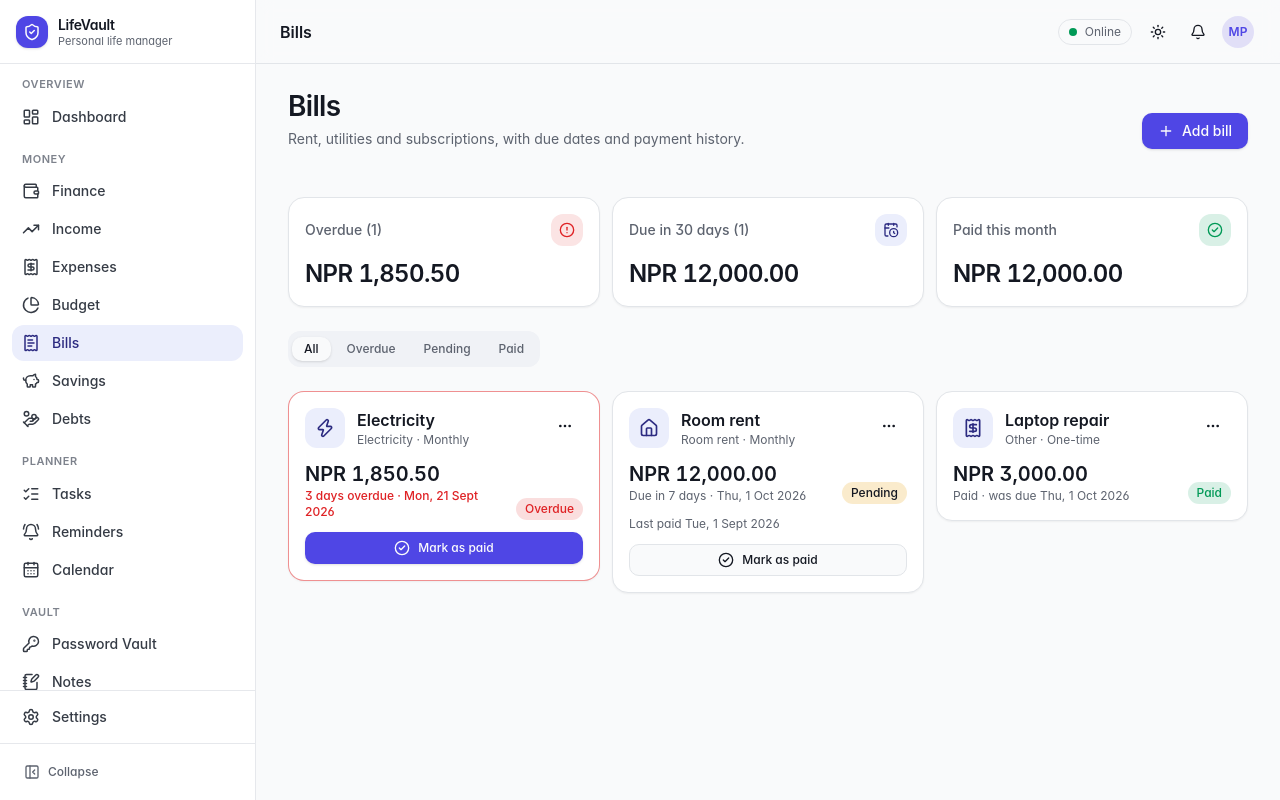
Test: bills page › shows payment history
Click the button named "Actions for Room rent": (889, 426) [871, 408, 907, 444]
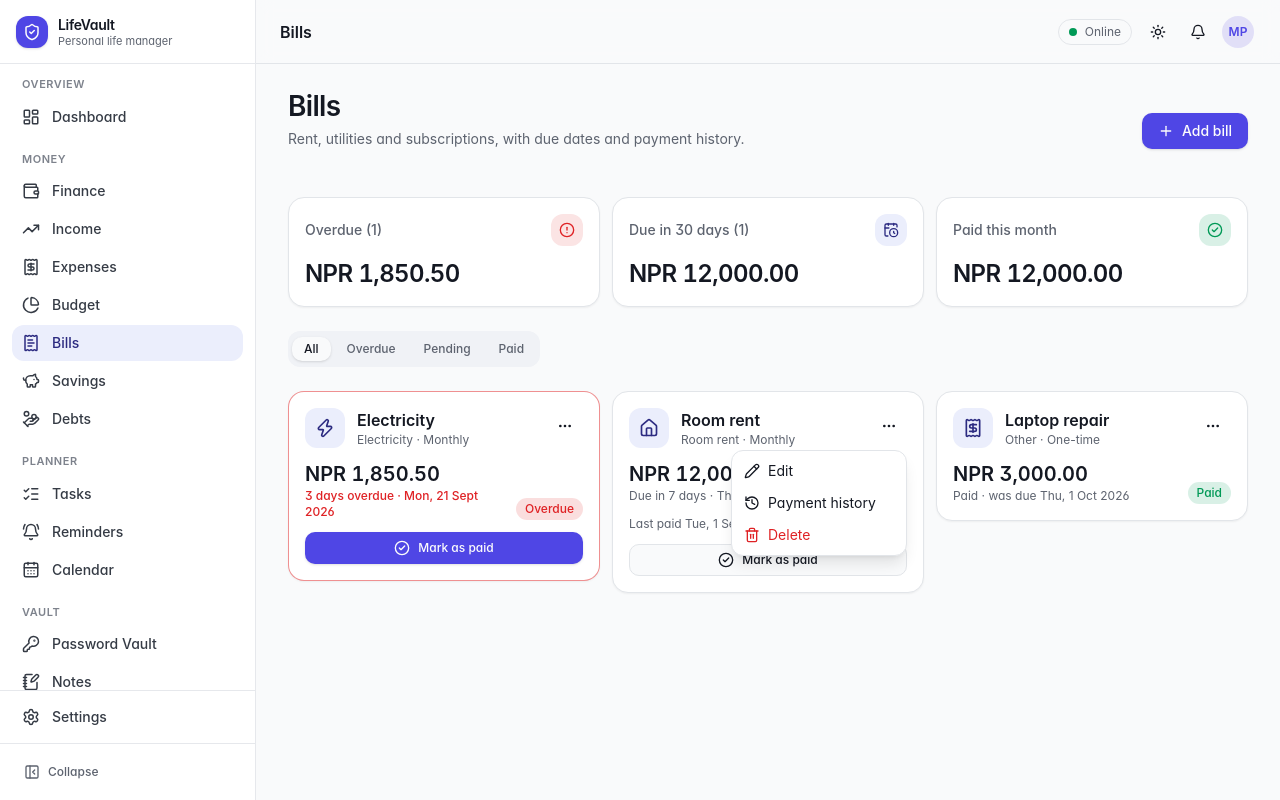
Click the menu item "Payment history": (810, 502) [744, 494, 876, 511]
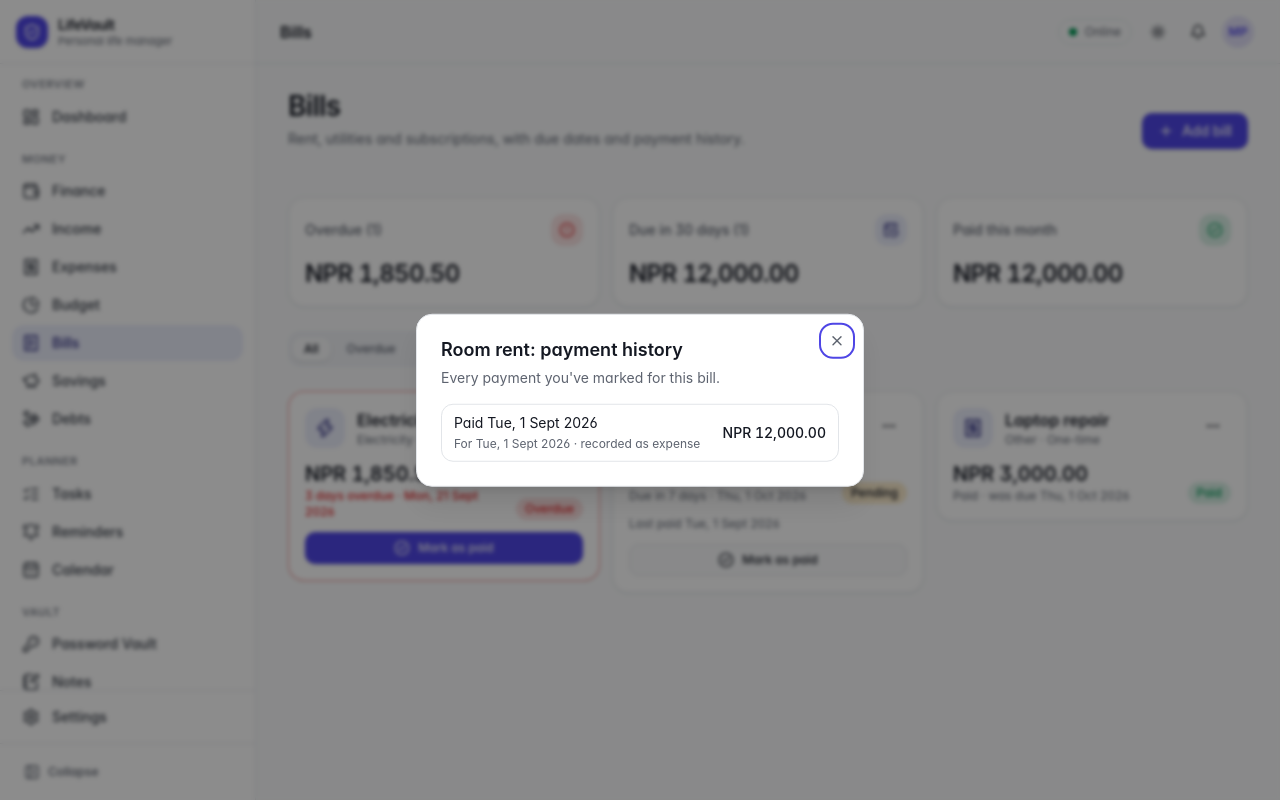
Result: the text "For Tue, 1 Sept 2026 · recorded as expense" is shown at [454, 435, 700, 450]
